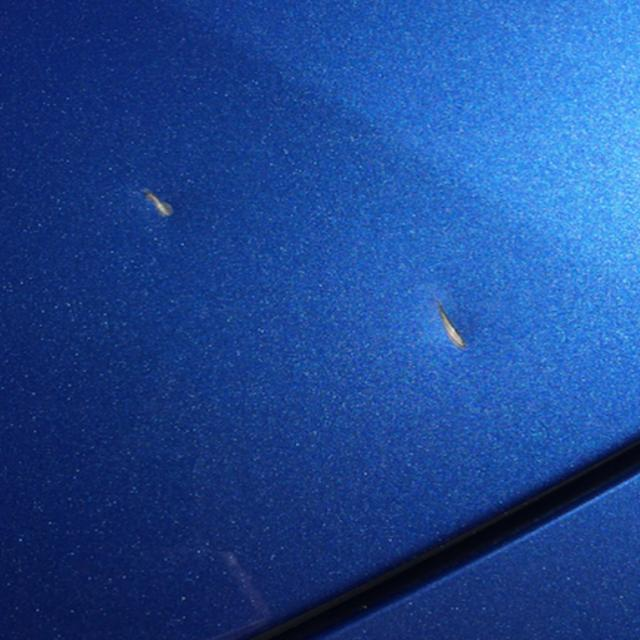dents: (91, 178, 271, 246), (397, 284, 511, 363)
